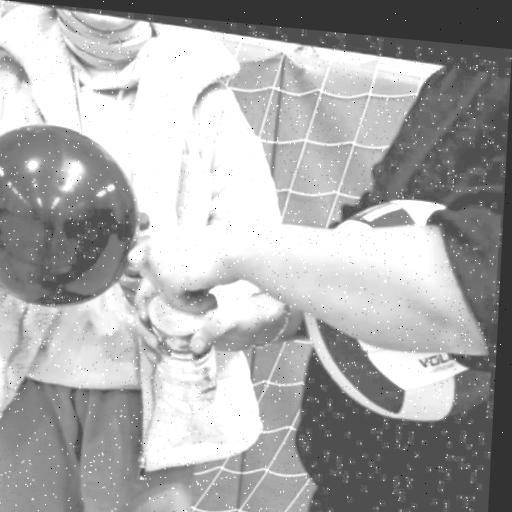balloon: (0, 117, 144, 320)
